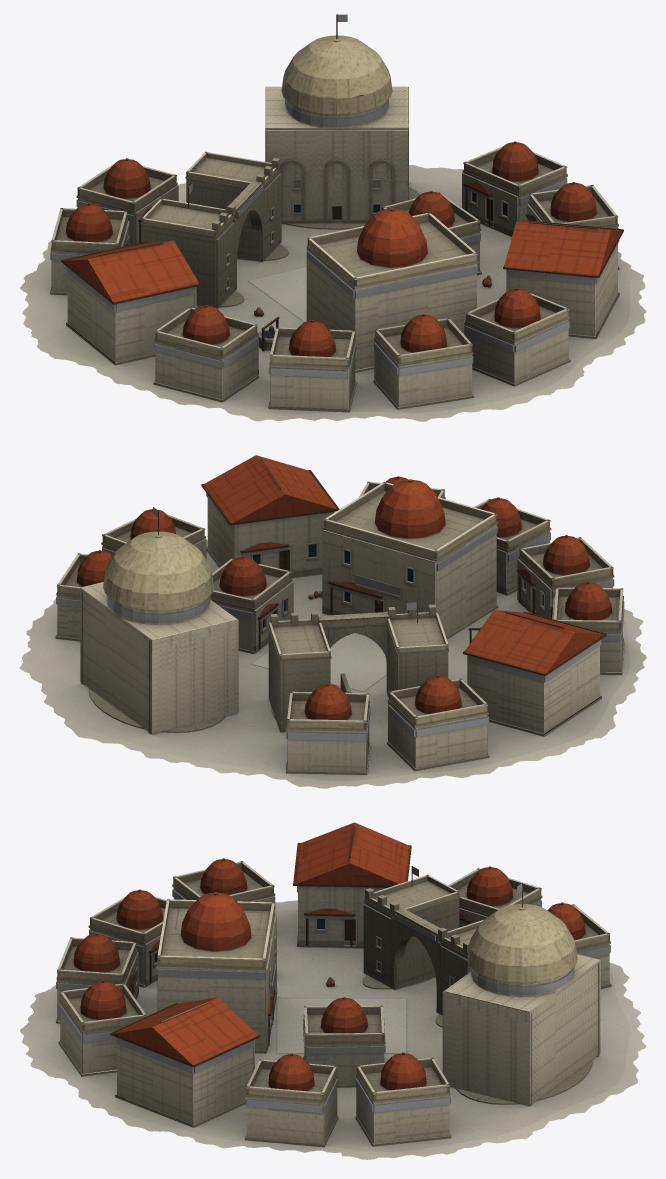
Rendered from gunpowder-town-medium-b-israelite-d793a8cc.glb.
The picture shows the model from 3 angles, top to bottom: view 1: azimuth 30°, elevation 25°; view 2: azimuth 150°, elevation 25°; view 3: azimuth 270°, elevation 25°; orthographic projection.
Parts seen in each view (by area): view 1: LOD0; view 2: LOD0; view 3: LOD0.
Boxes of the visible parts, <box> form: LOD0: <box>20,14,646,421</box>; LOD0: <box>19,455,646,788</box>; LOD0: <box>20,822,646,1159</box>.
Size of what is drawn, in the model's own units: 6.05 by 1.95 by 5.93.
Materials: 3 (3 with a texture image).
